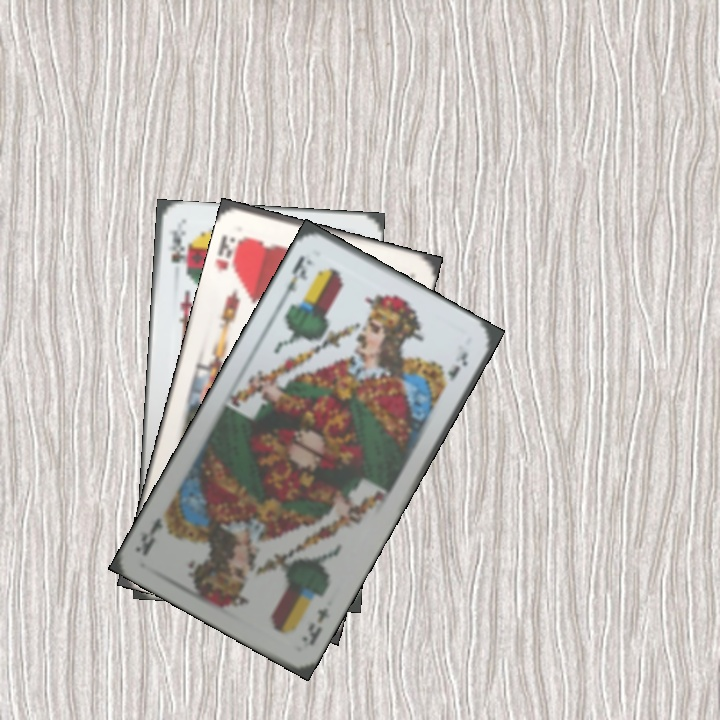EK: (276, 252, 316, 304), (297, 603, 333, 649)
HK: (212, 230, 247, 275)
SK: (165, 225, 188, 266)
